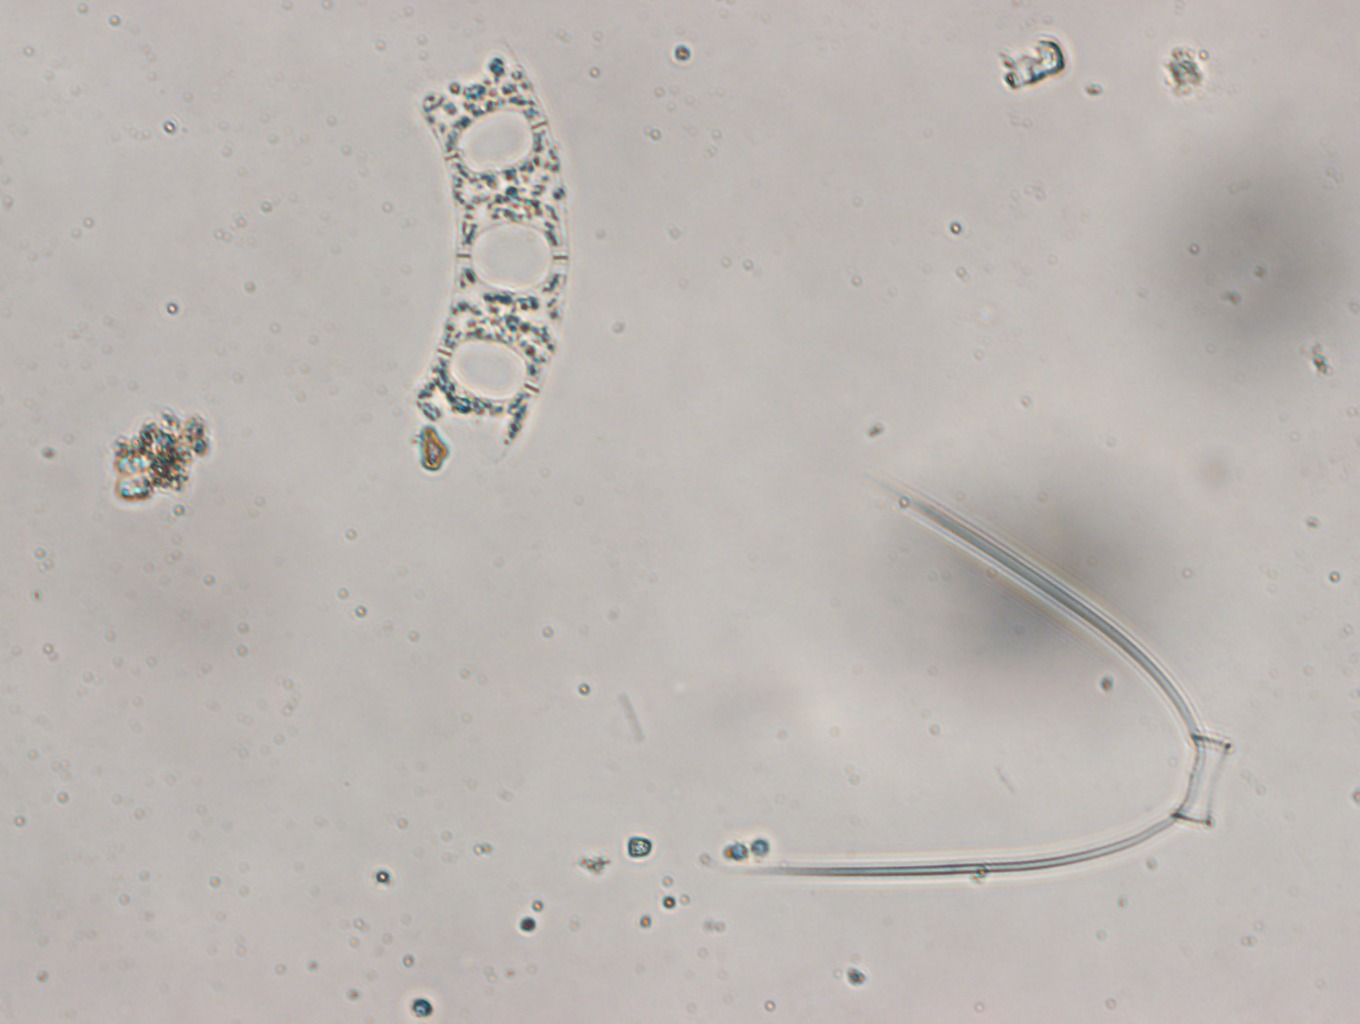eucampia: (412, 35, 568, 460)
